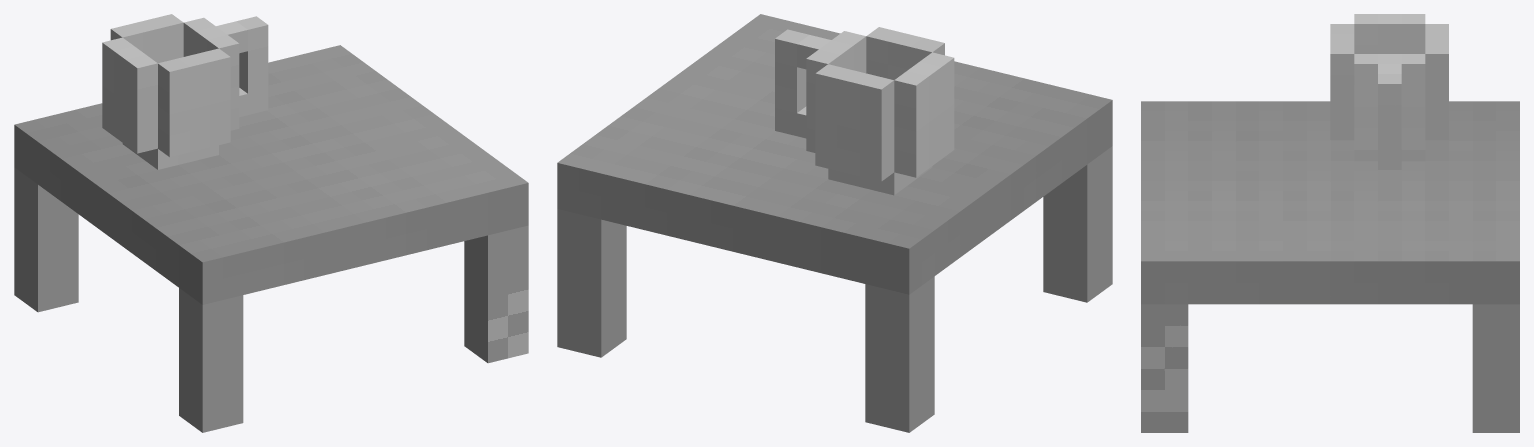
The model's file is coffee_table.gltf.
3 renders of one model, left to right at view 1: azimuth 30°, elevation 25°; view 2: azimuth 150°, elevation 25°; view 3: azimuth 270°, elevation 25°, orthographic. The views are drawn at different scales.
Parts seen in each view (by area): view 1: base (×2), legs, wall_3, wall_1, handle_3, wall_4, wall_2, handle_1; view 2: base (×2), legs, wall_4, wall_1, handle_3, wall_3, wall_2, handle_1; view 3: base (×2), legs, wall_2, wall_3, wall_1, wall_4, handle_3.
Part boxes in pixels (x1,y1,x2,y2): base (×2): [14, 45, 528, 304]; legs: [14, 167, 528, 432]; wall_3: [158, 48, 230, 157]; wall_1: [102, 37, 157, 153]; handle_3: [236, 16, 268, 114]; wall_4: [110, 14, 183, 63]; wall_2: [183, 17, 239, 130]; handle_1: [216, 21, 247, 53]; base (×2): [557, 14, 1112, 294]; legs: [557, 146, 1112, 432]; wall_4: [815, 64, 894, 181]; wall_1: [894, 52, 954, 177]; handle_3: [775, 29, 809, 135]; wall_3: [866, 27, 944, 79]; wall_2: [806, 31, 866, 152]; handle_1: [797, 35, 831, 69]; base (×2): [1141, 101, 1519, 304]; legs: [1141, 304, 1519, 432]; wall_2: [1354, 54, 1425, 149]; wall_3: [1330, 24, 1354, 139]; wall_1: [1354, 14, 1425, 53]; wall_4: [1425, 24, 1448, 139]; handle_3: [1378, 74, 1401, 169].
Size of the model in its own units: 1 by 0.8125 by 1.
4 materials, 4 textured.
